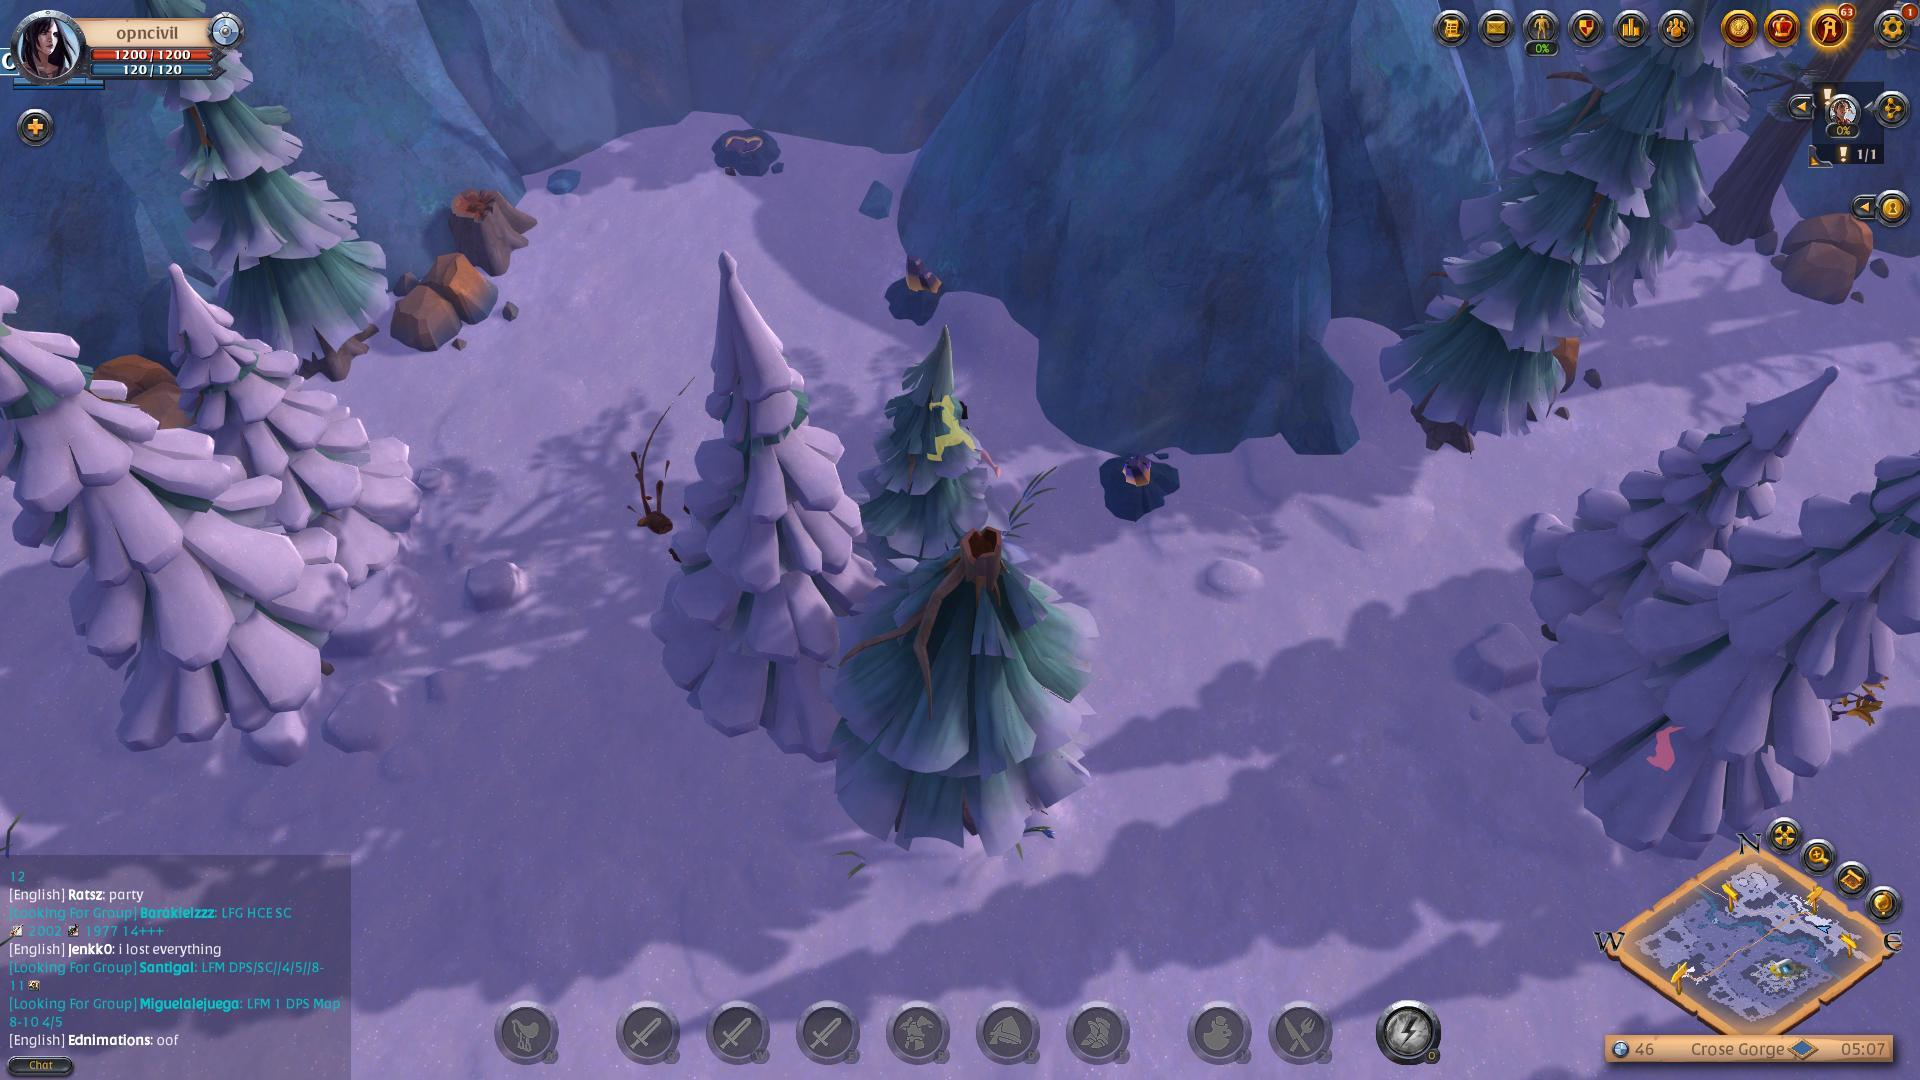copper_ore: (1095, 451, 1203, 520), (864, 266, 975, 331)
limestone: (388, 245, 509, 364), (1776, 203, 1879, 319)
